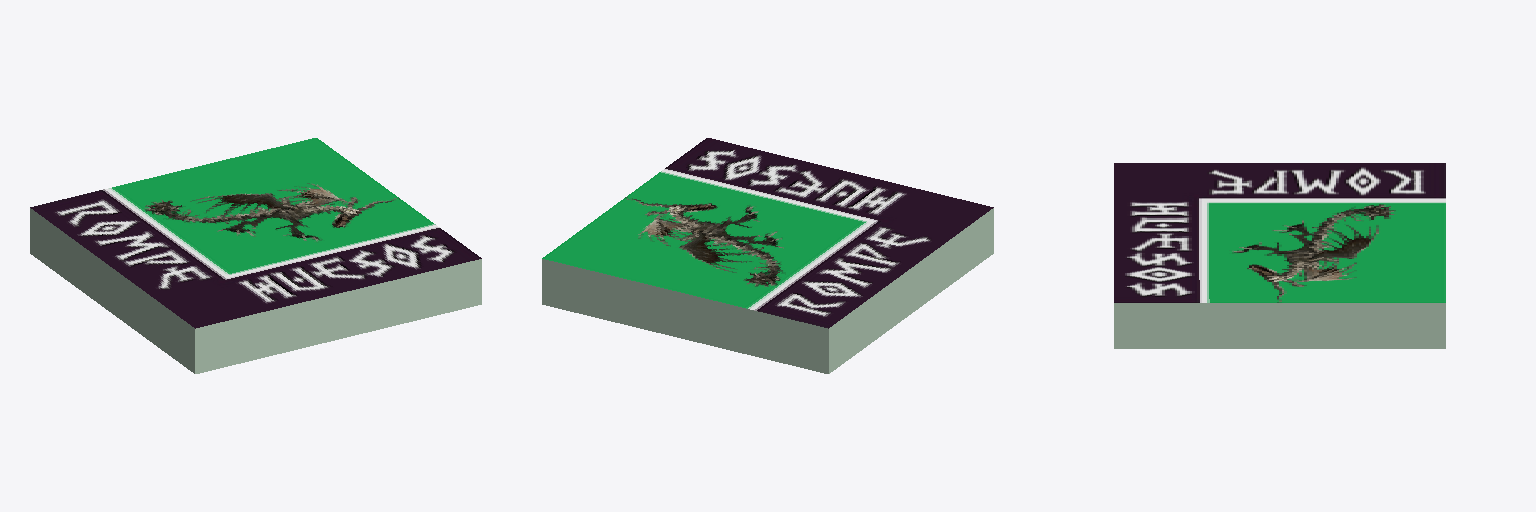
3 renders of one model, left to right at view 1: azimuth 30°, elevation 25°; view 2: azimuth 150°, elevation 25°; view 3: azimuth 270°, elevation 25°, orthographic.
Visible parts, largest first — view 1: Cube; view 2: Cube; view 3: Cube.
Boxes of the visible parts, x1,y1,x2,y2 form: Cube: [30, 138, 481, 373]; Cube: [542, 138, 993, 373]; Cube: [1114, 163, 1445, 348].
Bounding box in the file's own units: 1.31 × 0.2 × 1.31.
Materials: 1 (1 with a texture image).